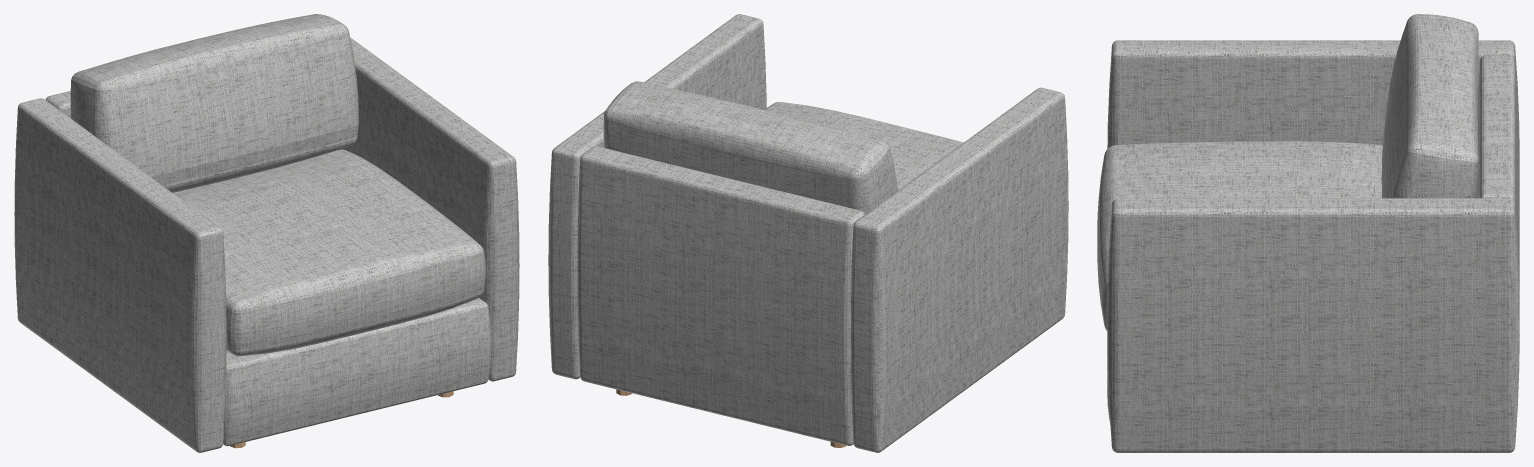
The model's file is Armchair Madison Formdecor N030720.obj.
3 renders of one model, left to right at view 1: azimuth 30°, elevation 25°; view 2: azimuth 150°, elevation 25°; view 3: azimuth 270°, elevation 25°, orthographic. The views are drawn at different scales.
Parts seen in each view (by area): view 1: Mesh01, Mesh06, Mesh08; view 2: Mesh01, Mesh08, Mesh06; view 3: Mesh01, Mesh06, Mesh08.
Boxes of the visible parts, x1,y1,x2,y2 form: Mesh01: (14,37,519,452); Mesh06: (173,149,485,356); Mesh08: (70,14,358,192); Mesh01: (548,14,1068,452); Mesh08: (603,81,897,214); Mesh06: (764,102,963,190); Mesh01: (1107,40,1519,452); Mesh06: (1097,141,1382,330); Mesh08: (1381,14,1478,198).
Bounding box in the file's own units: 34.25 × 28.09 × 34.57.
